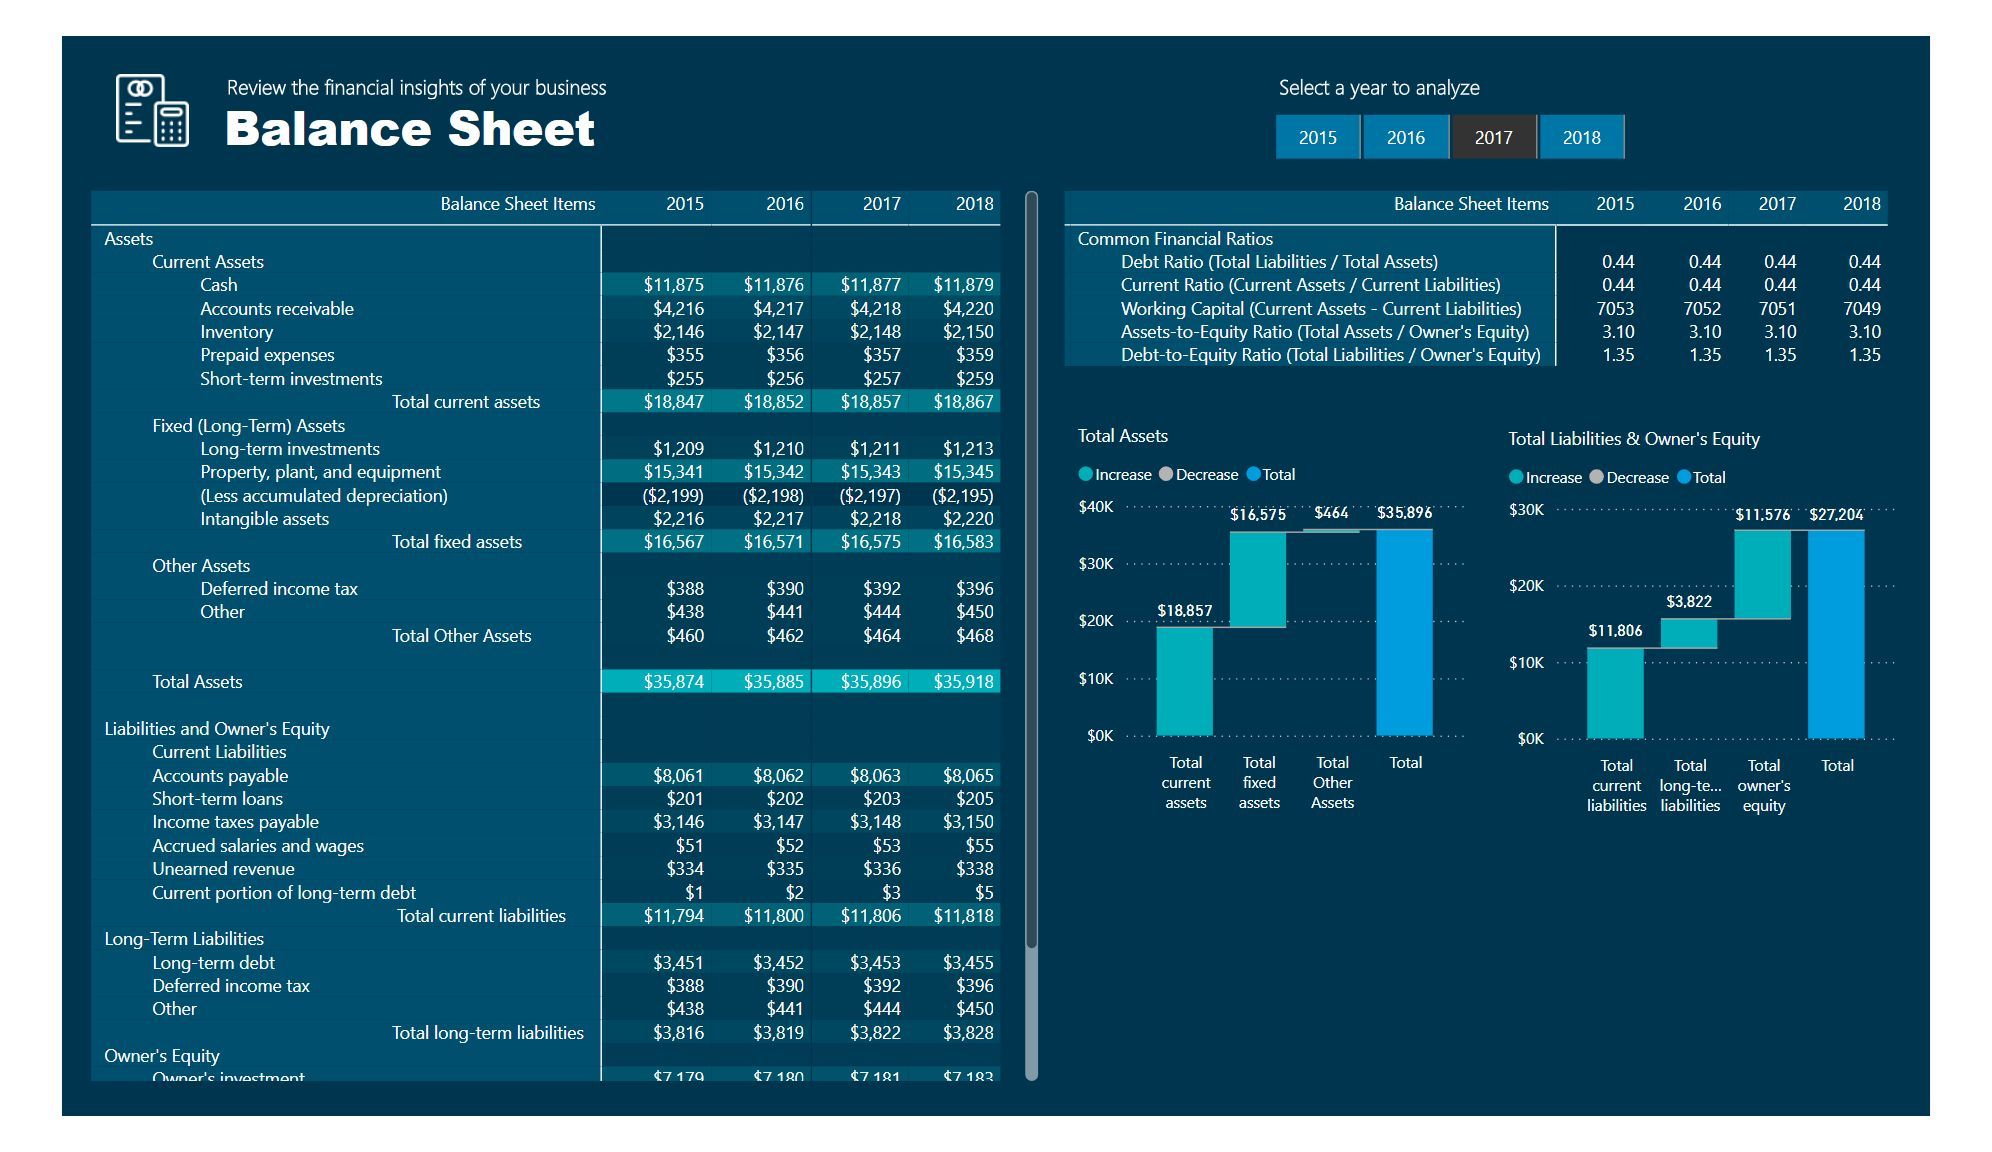

What the dashboard file says about the page in this screenshot:
{"tool":"powerbi","page":{"name":"Balance Sheet","canvas":[1280,720],"ordinal":3},"visuals":[{"type":"textbox","box":[105.5,14.8,360.9,60.1],"z":0},{"type":"textbox","box":[107.6,0,291.5,34.4],"z":1000},{"type":"image","box":[18.3,1.1,88.2,60.2],"z":2000},{"type":"slicer","fields":{"Values":["Dates.Year"]},"box":[805.7,27.2,289.4,44.3],"z":3000},{"type":"textbox","box":[828.8,0,166.6,31],"z":4000},{"type":"pivotTable","fields":{"Rows":["Balance Sheet Template.Row Index","Balance Sheet Template.Balance Sheet Items"],"Values":["Balance Sheet Analysis.B/S Values"],"Columns":["Dates.Year"]},"box":[14.8,80.6,659.3,620.7],"z":7000},{"type":"pivotTable","fields":{"Rows":["Balance Sheet Template.Row Index","Balance Sheet Template.Balance Sheet Items"],"Values":["Balance Sheet Analysis.B/S Values"],"Columns":["Dates.Year"]},"box":[682,80.6,591.2,149.8],"z":8000},{"type":"waterfallChart","title":"Total Assets","fields":{"Category":["Balance Sheet Template.Summary Items"],"Y":["Balance Sheet Analysis.B/S Values"]},"box":[691.4,244.8,274.7,273.8],"z":9000},{"type":"waterfallChart","title":"Total Liabilities & Owner''s Equity","fields":{"Category":["Balance Sheet Template.Summary Items"],"Y":["Balance Sheet Analysis.B/S Values"]},"box":[985.7,246.7,276.6,274.7],"z":10000}]}

Visuals, with their boxes in screenshot pixels (x1, y1, x2, y2), scaled from the page's 1280x720 canvas onto the 1992x1152 screenshot:
textbox: (left=164, top=24, right=726, bottom=120)
textbox: (left=167, top=0, right=621, bottom=55)
image: (left=28, top=2, right=166, bottom=98)
slicer - Dates.Year: (left=1254, top=44, right=1704, bottom=114)
textbox: (left=1290, top=0, right=1549, bottom=50)
pivotTable - Balance Sheet Template.Row Index x Balance Sheet Template.Balance Sheet Items: (left=23, top=129, right=1049, bottom=1122)
pivotTable - Balance Sheet Template.Row Index x Balance Sheet Template.Balance Sheet Items: (left=1061, top=129, right=1981, bottom=369)
"Total Assets" waterfallChart: (left=1076, top=392, right=1503, bottom=830)
"Total Liabilities & Owner''s Equity" waterfallChart: (left=1534, top=395, right=1964, bottom=834)
